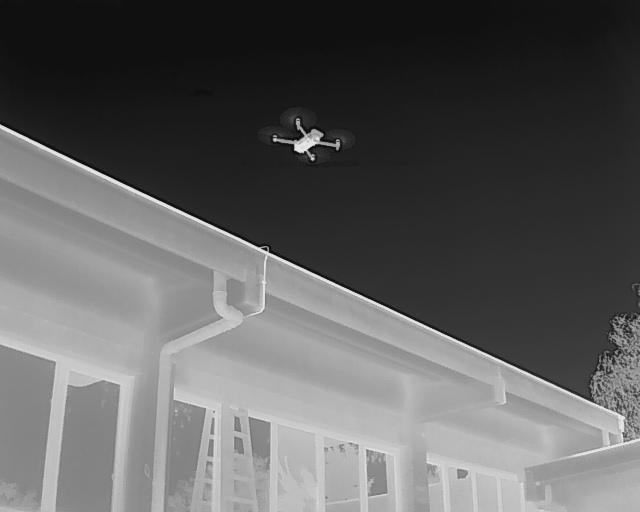drone: (254, 105, 364, 171)
